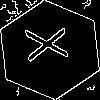X: (25, 25, 79, 62)
